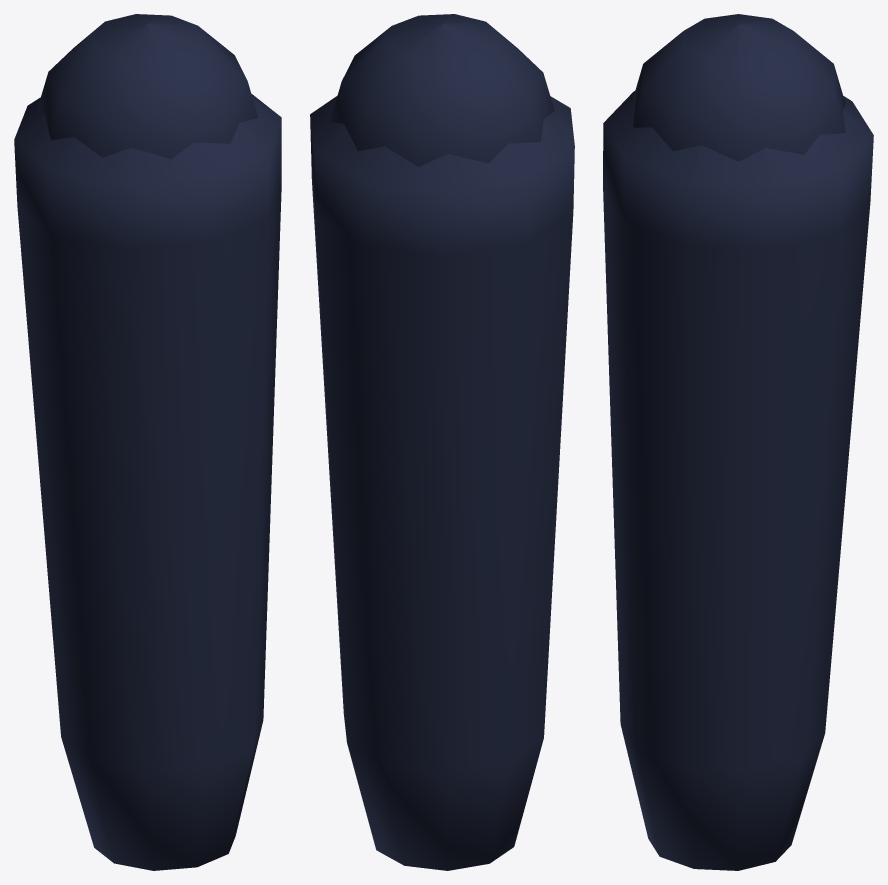
File: thigh_L.obj
The picture shows the model from 3 angles, left to right: view 1: azimuth 30°, elevation 25°; view 2: azimuth 150°, elevation 25°; view 3: azimuth 270°, elevation 25°; orthographic projection.
Parts seen in each view (by area): view 1: thigh_L; view 2: thigh_L; view 3: thigh_L.
Part boxes in pixels (<box>): thigh_L: <box>14,14,281,870</box>; thigh_L: <box>310,14,574,870</box>; thigh_L: <box>603,14,873,870</box>.
Size of the model in its own units: 0.1446 by 0.5066 by 0.1493.
